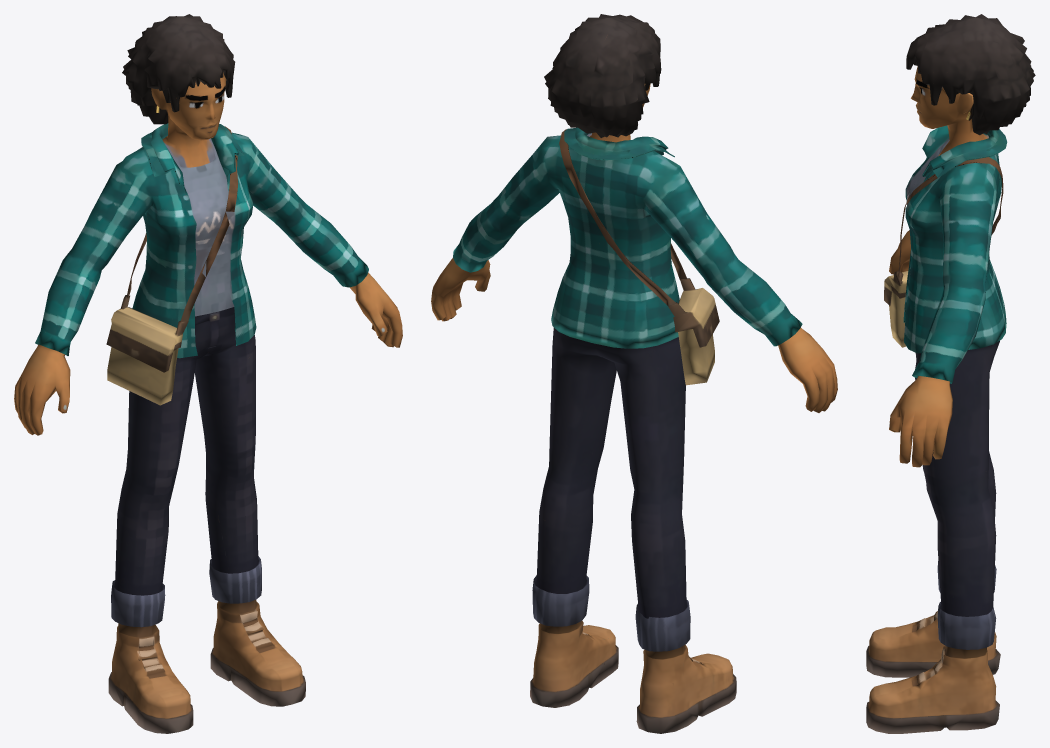
Rendered from plaid_shirt.glb.
3 views of the same model, side by side, from view 1: azimuth 30°, elevation 25°; view 2: azimuth 150°, elevation 25°; view 3: azimuth 270°, elevation 25° (orthographic). The views are drawn at different scales.
Parts seen in each view (by area): view 1: geometry_0; view 2: geometry_0; view 3: geometry_0.
Boxes of the visible parts, left/top/right/bottom form: geometry_0: left=14, top=14, right=402, bottom=733; geometry_0: left=431, top=14, right=837, bottom=733; geometry_0: left=866, top=14, right=1035, bottom=733.
Size of the model in its own units: 0.562 by 0.9512 by 0.2158.
1 material, 1 textured.
